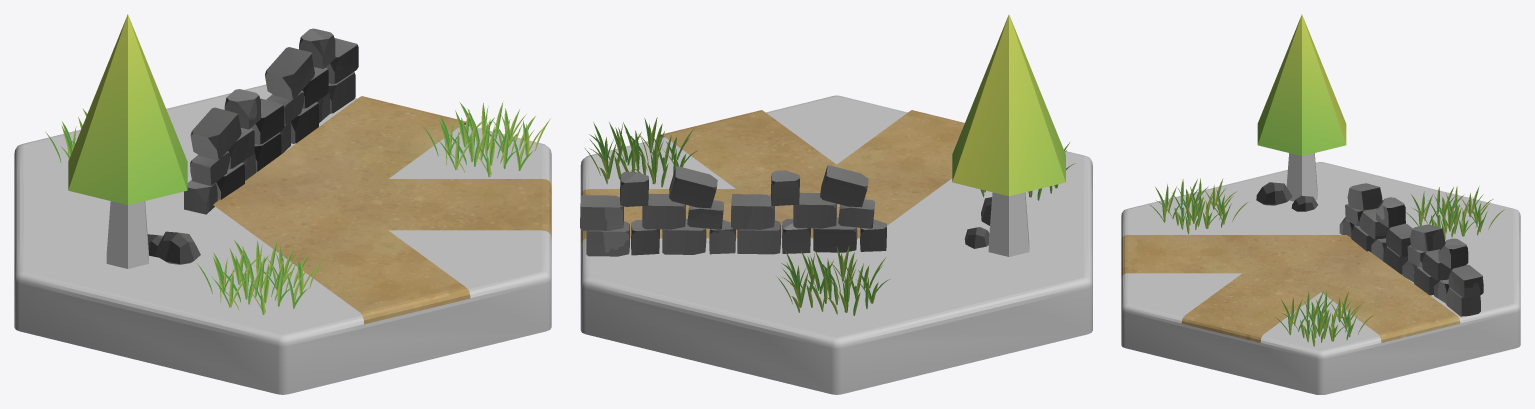
Rendered from Road_TutType3.fbx.
The picture shows the model from 3 angles, left to right: view 1: azimuth 30°, elevation 25°; view 2: azimuth 150°, elevation 25°; view 3: azimuth 270°, elevation 25°; orthographic projection. The views are drawn at different scales.
Parts seen in each view (by area): view 1: Object009; view 2: Object009; view 3: Object009.
Boxes of the visible parts, bbox=[...] form: Object009: bbox=[14, 14, 551, 394]; Object009: bbox=[580, 14, 1092, 394]; Object009: bbox=[1121, 14, 1520, 394].
Bounding box in the file's own units: 99.25 × 53.53 × 86.6.
